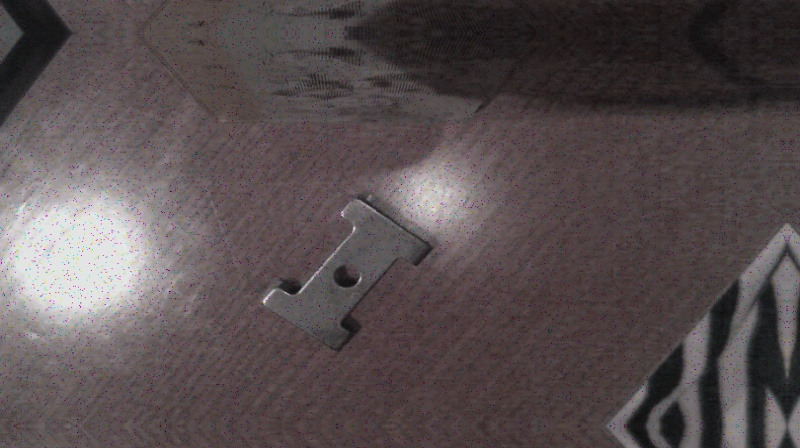O002: (259, 192, 436, 352)
